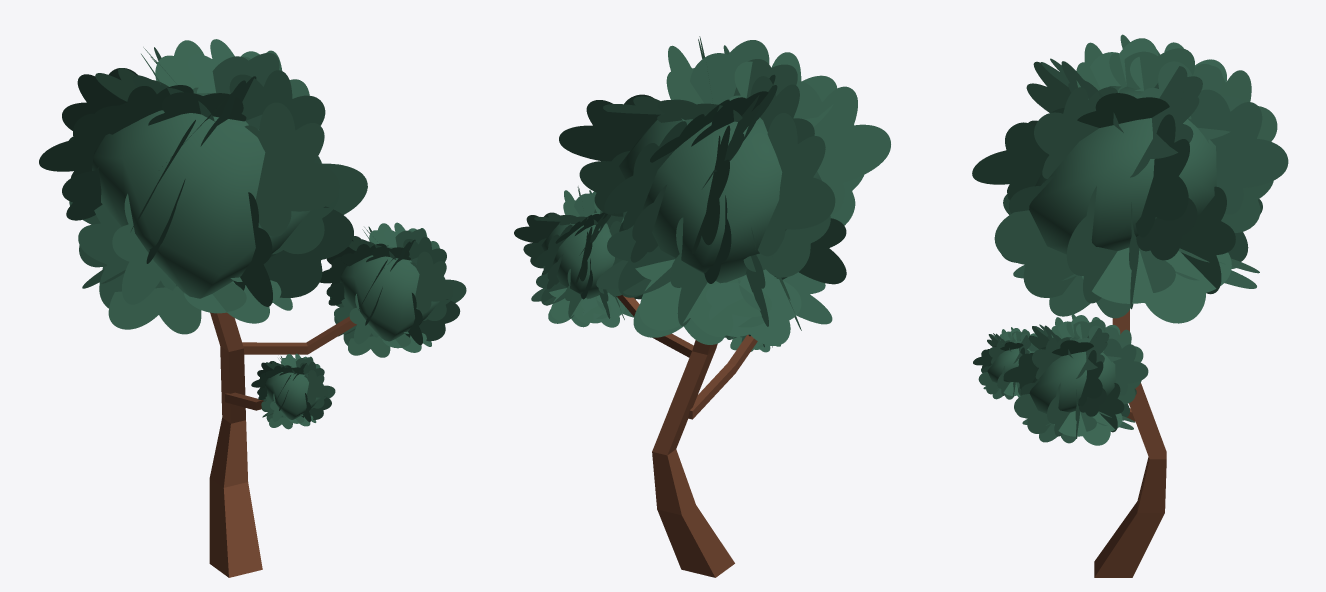
Rendered from FBX_Tree_D.fbx.
3 renders of one model, left to right at view 1: azimuth 30°, elevation 25°; view 2: azimuth 150°, elevation 25°; view 3: azimuth 270°, elevation 25°, orthographic. The views are drawn at different scales.
Visible parts, largest first — view 1: Tree_D; view 2: Tree_D; view 3: Tree_D.
Part boxes in pixels (bbox=[...]): Tree_D: bbox=[39, 39, 466, 577]; Tree_D: bbox=[514, 36, 890, 577]; Tree_D: bbox=[972, 34, 1288, 577].
Size of the model in its own units: 297 by 245 by 385.
